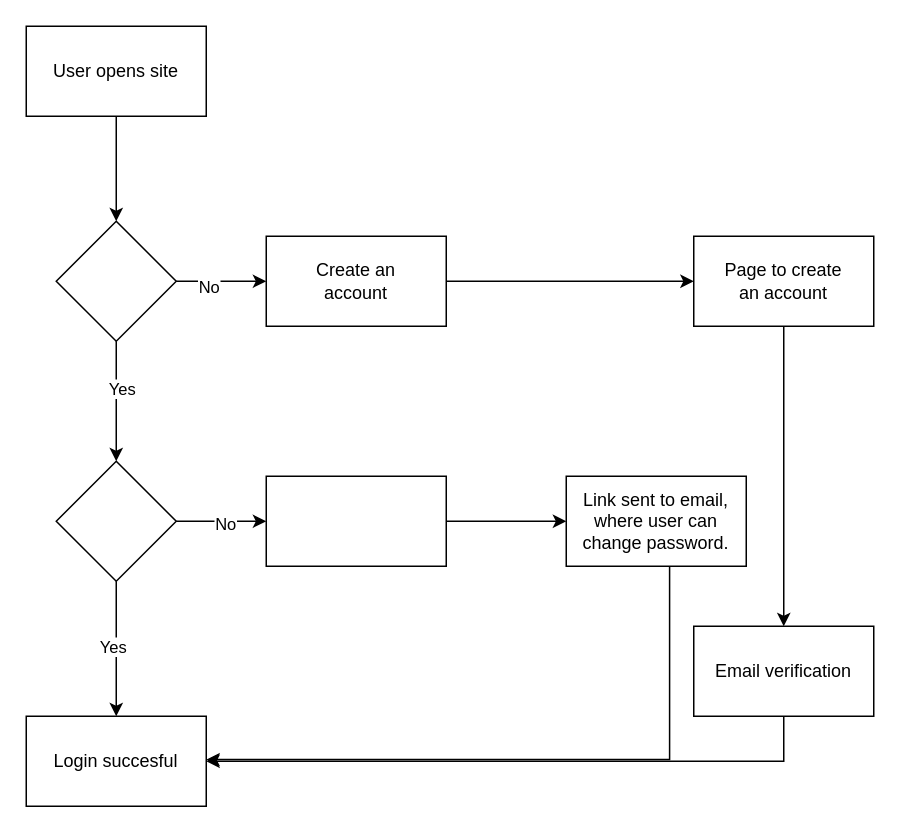
Some shapes in this 900 by 833 pixel diagram are drawn without their labels. The centre of each missing label's shape, as x and y in pixels:
Does user have an account?: the point at 115,280
Field to put email for changing password: the point at 355,520
Remember username/password?: the point at 115,520
